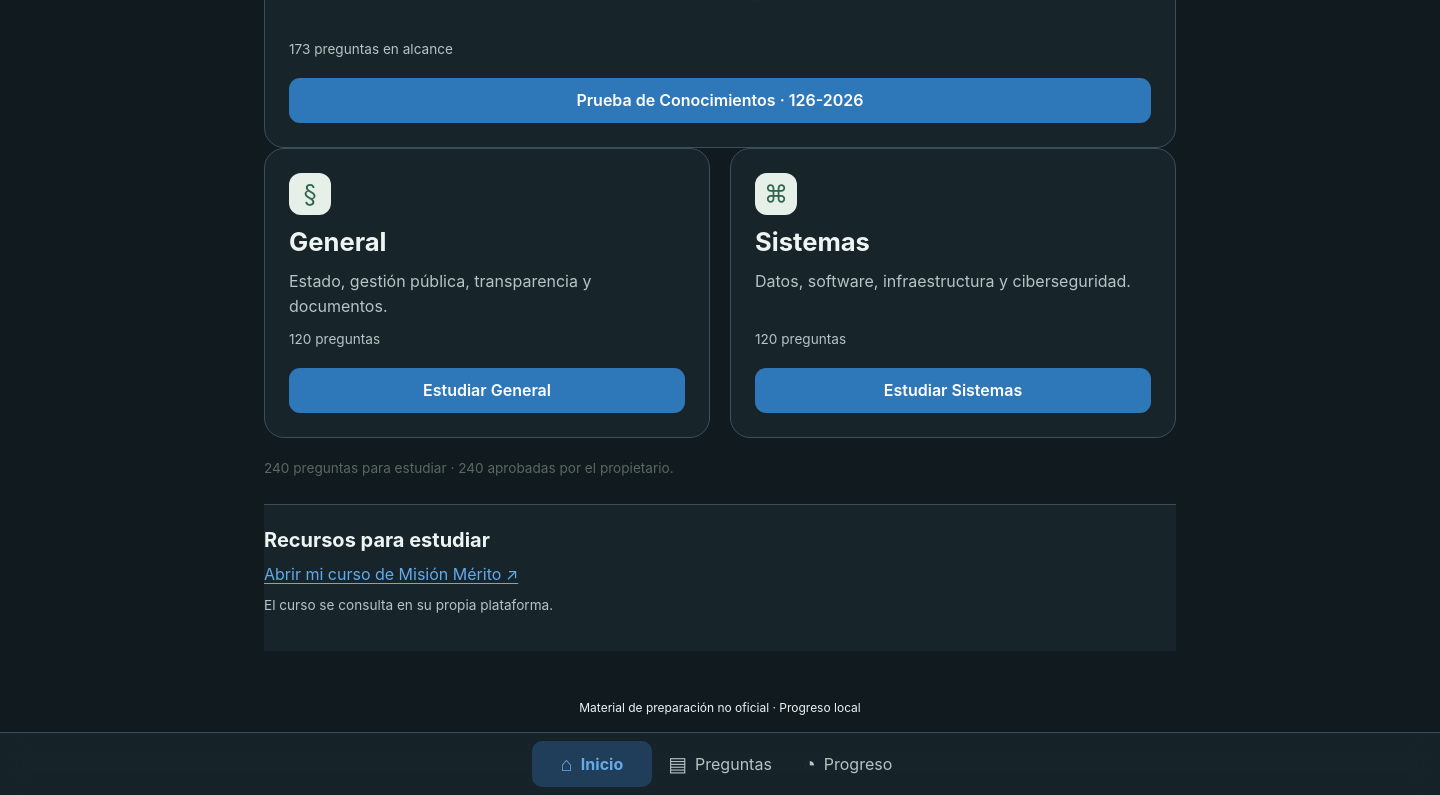
Scenario: estudio y simuladores móviles › marca las preguntas fuera de la convocatoria y no las de dentro
The image size is (1440, 795).
(page scrolled)
Click the button "Estudiar General" at (487, 391), box [289,368,685,413]
(page scrolled)
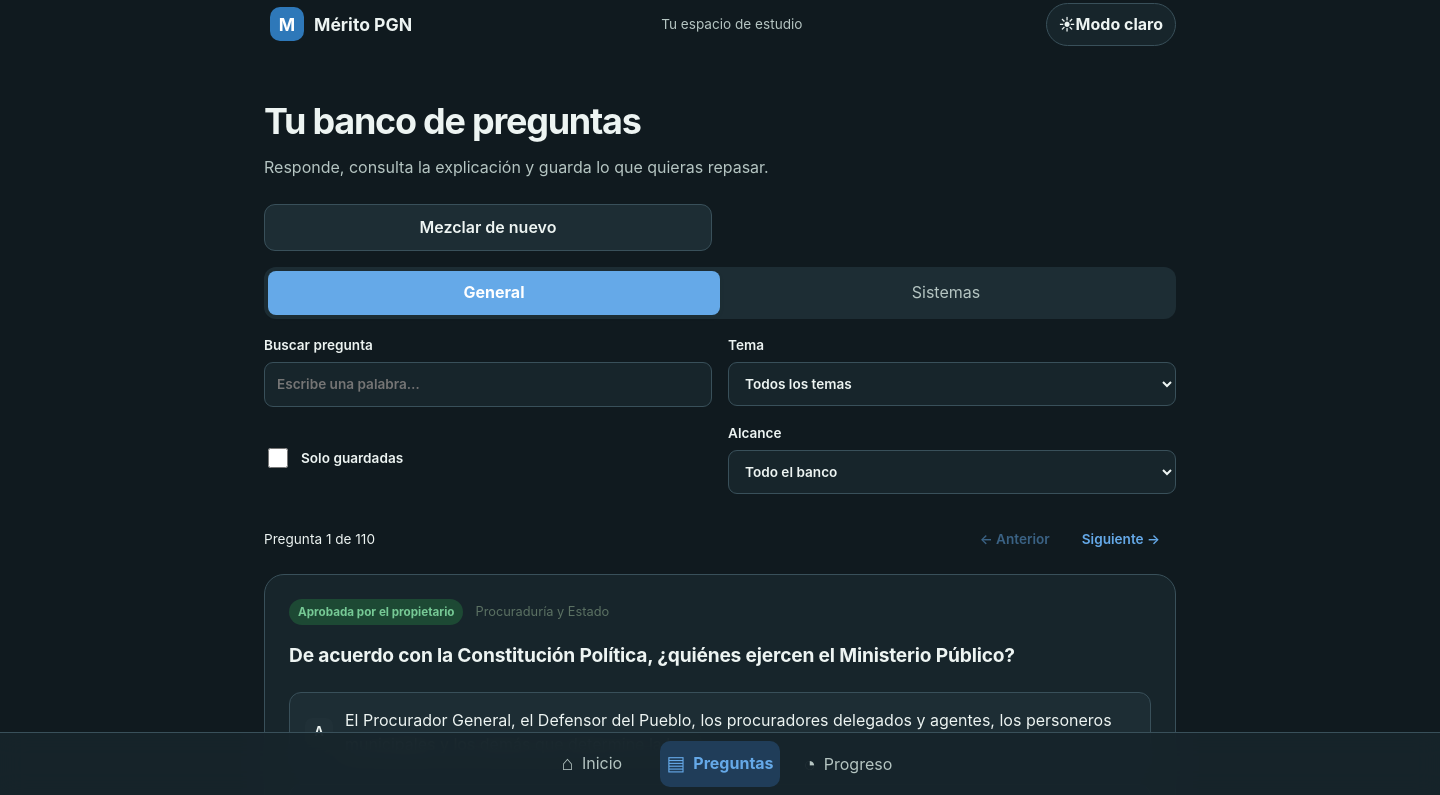
Type "Se propone sancionar una conducta únicamente porque hoy parece reprochable, aunque no estaba descrita como falta al ocurrir. ¿Qué debe examinarse primero?" into the search field labelled "Buscar pregunta" at (488, 384), box [264,362,712,407]
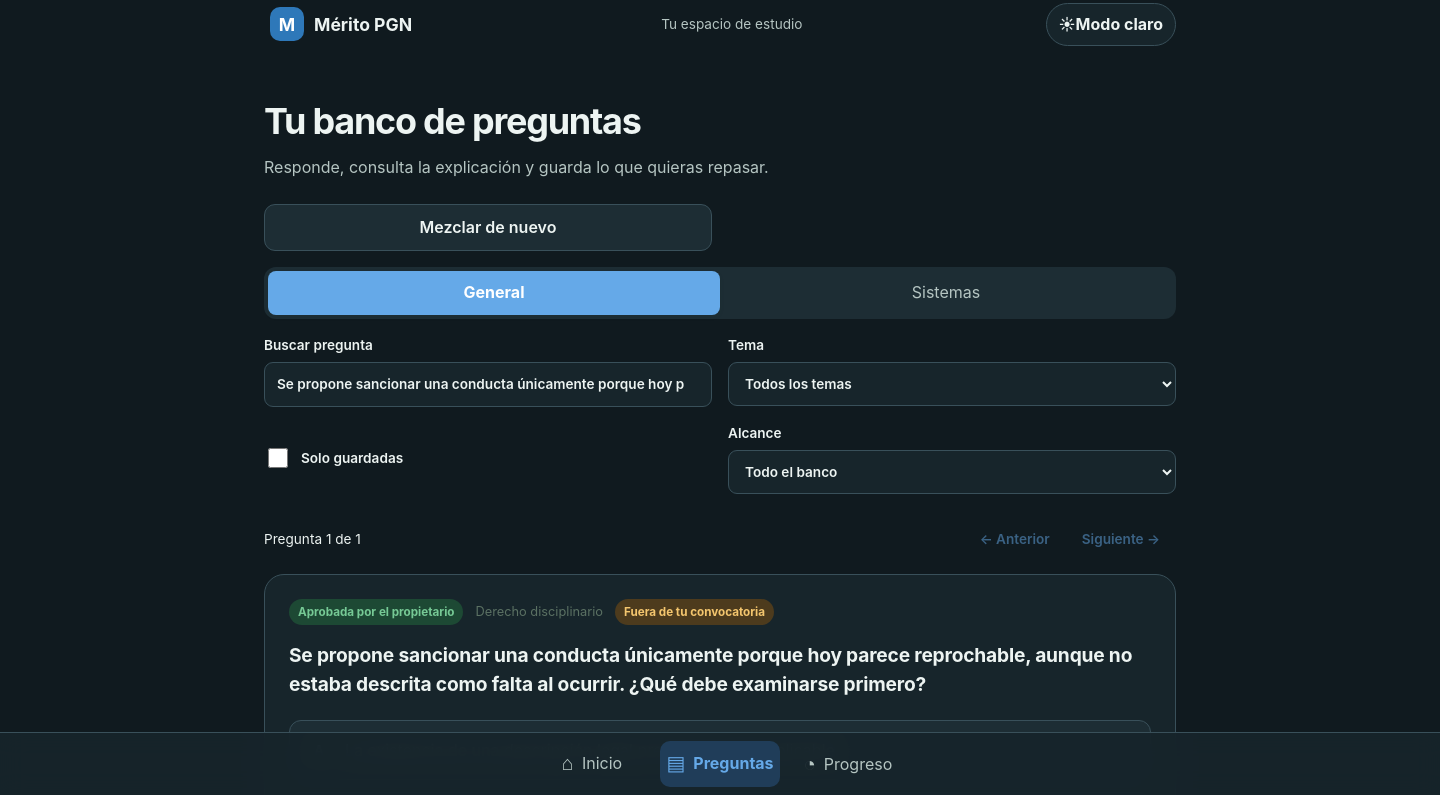
Now the heading named "Se propone sancionar una conducta únicamente porque hoy parece reprochable, aunque no estaba descrita como falta al ocur" is shown, box [289,641,1151,698]
Now the text "Fuera de tu convocatoria" is shown, box [615,599,774,625]
Replace the text in the search field labelled "Buscar pregunta" with "Según el Decreto 1080 de 2015, ¿qué comprende el proceso de gestión y trámite de los documentos?" at (488, 384), box [264,362,712,407]
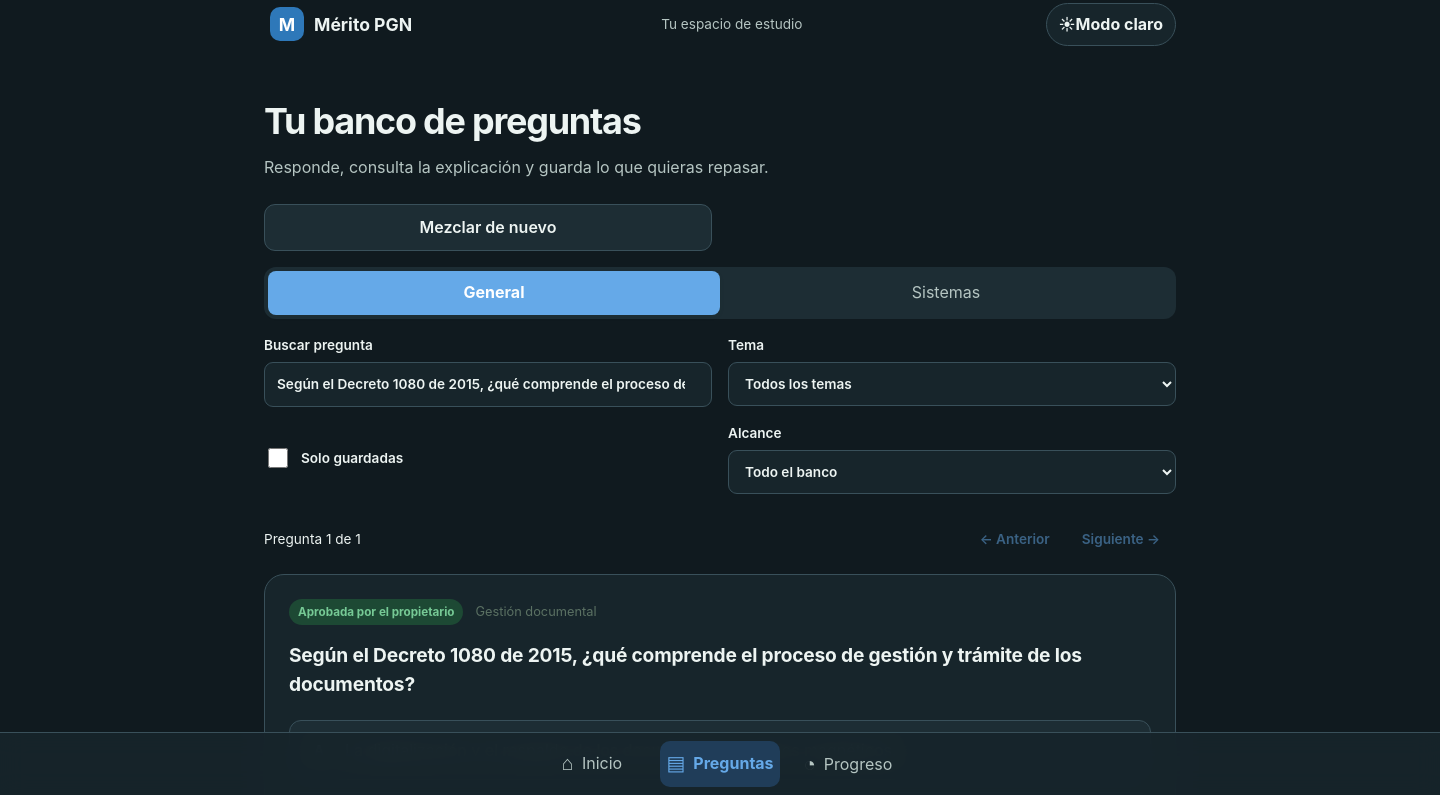
Now the heading named "Según el Decreto 1080 de 2015, ¿qué comprende el proceso de gestión y trámite de los documentos?" is shown, box [289,641,1151,698]
Now the text "Fuera de tu convocatoria" is gone
